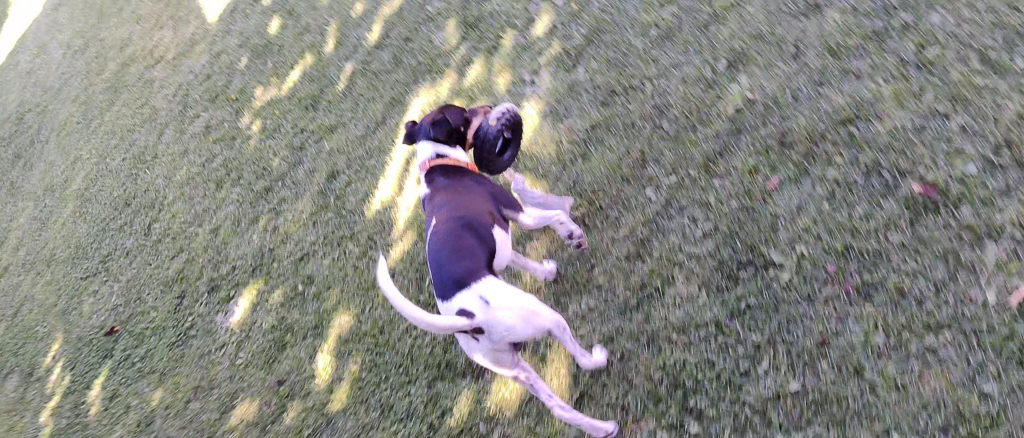Dog: (368, 93, 637, 438)
